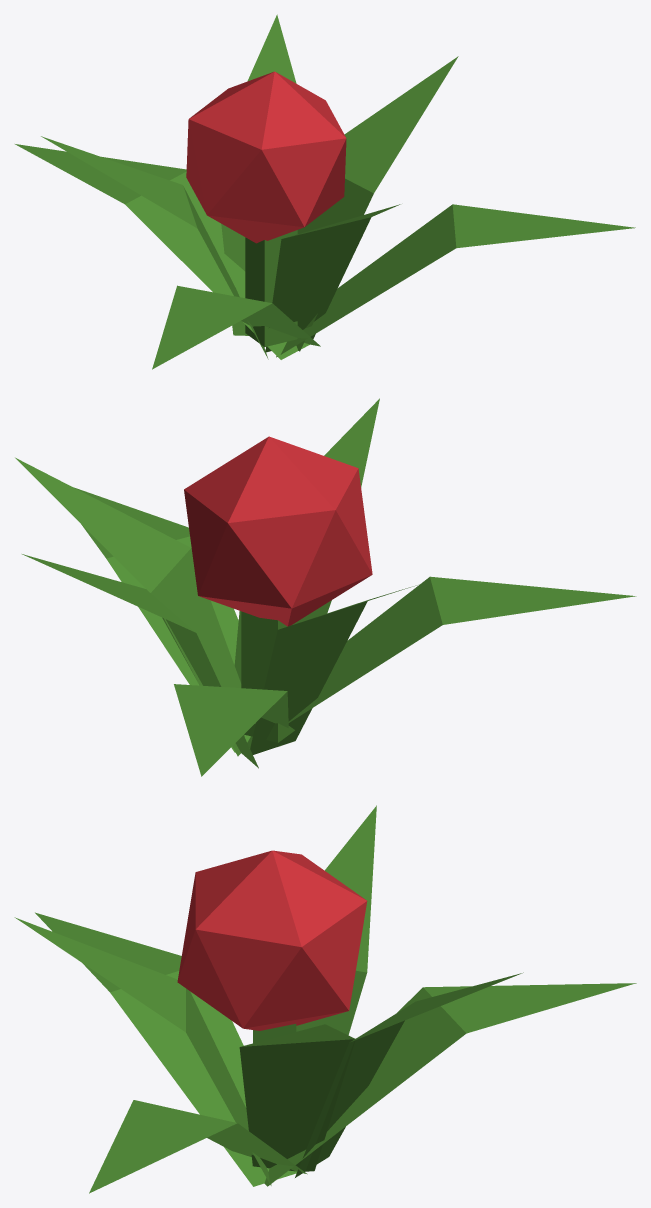
Rendered from flower-red.glb.
3 views of the same model, one above another, from view 1: azimuth 30°, elevation 25°; view 2: azimuth 150°, elevation 25°; view 3: azimuth 270°, elevation 25° (orthographic). The views are drawn at different scales.
Visible parts, largest first — view 1: flower-red; view 2: flower-red; view 3: flower-red.
Part boxes in pixels (<box>): flower-red: <box>15,14,635,369</box>; flower-red: <box>15,398,636,776</box>; flower-red: <box>14,805,636,1193</box>.
Bounding box in the file's own units: 0.4385 × 0.2292 × 0.4103.
